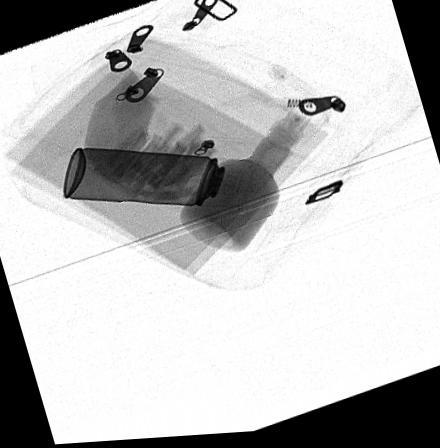Sprayer: (64, 147, 245, 209)
